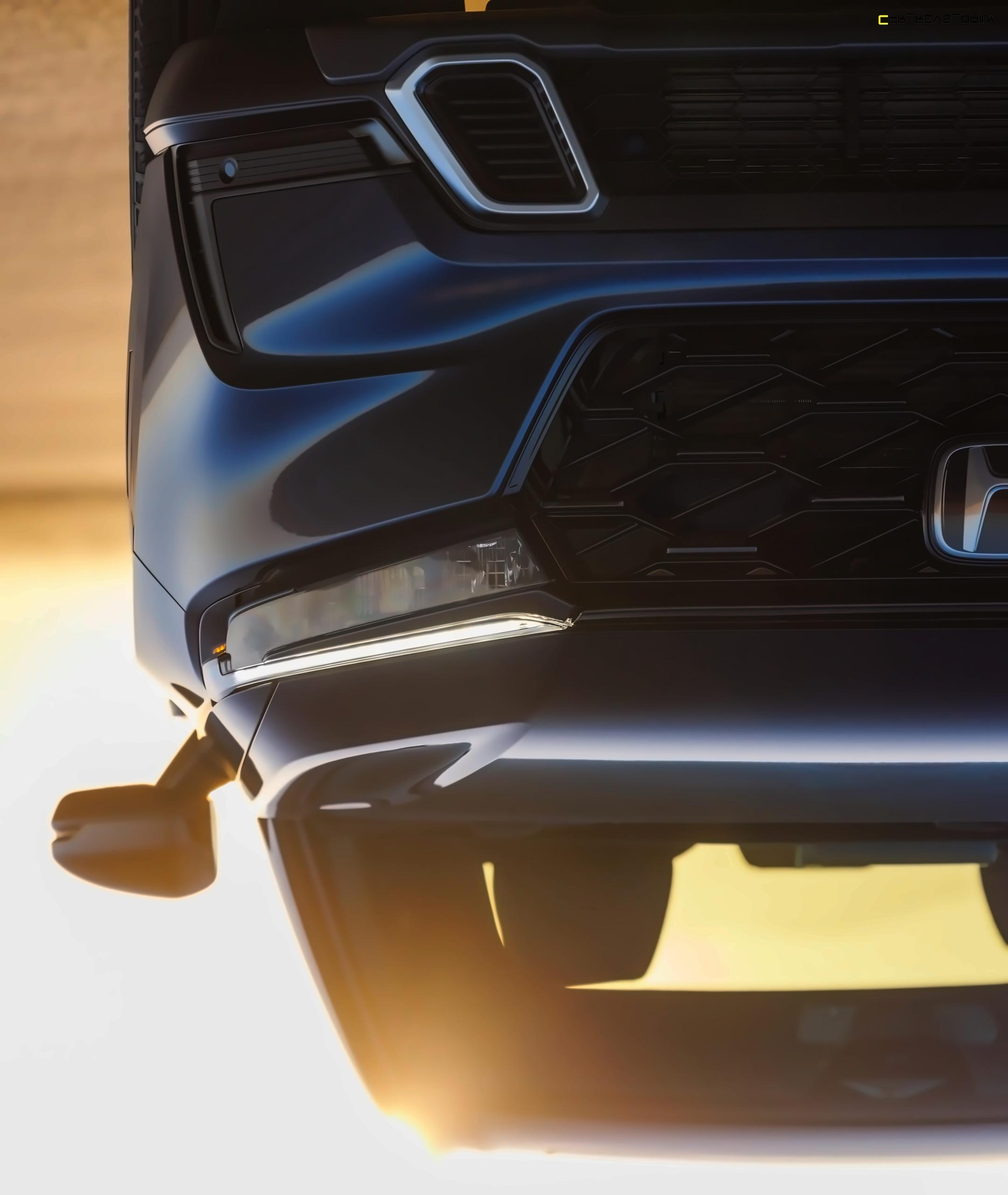Car hood: (223, 597, 1008, 842)
Front bumper: (118, 0, 1008, 602)
Headlight - -L-: (173, 476, 607, 717)
Side mirror - -L-: (26, 691, 259, 903)
